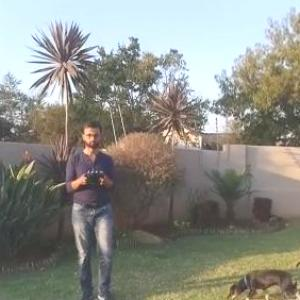follow: (62, 115, 121, 299)
null: (224, 258, 299, 299)
